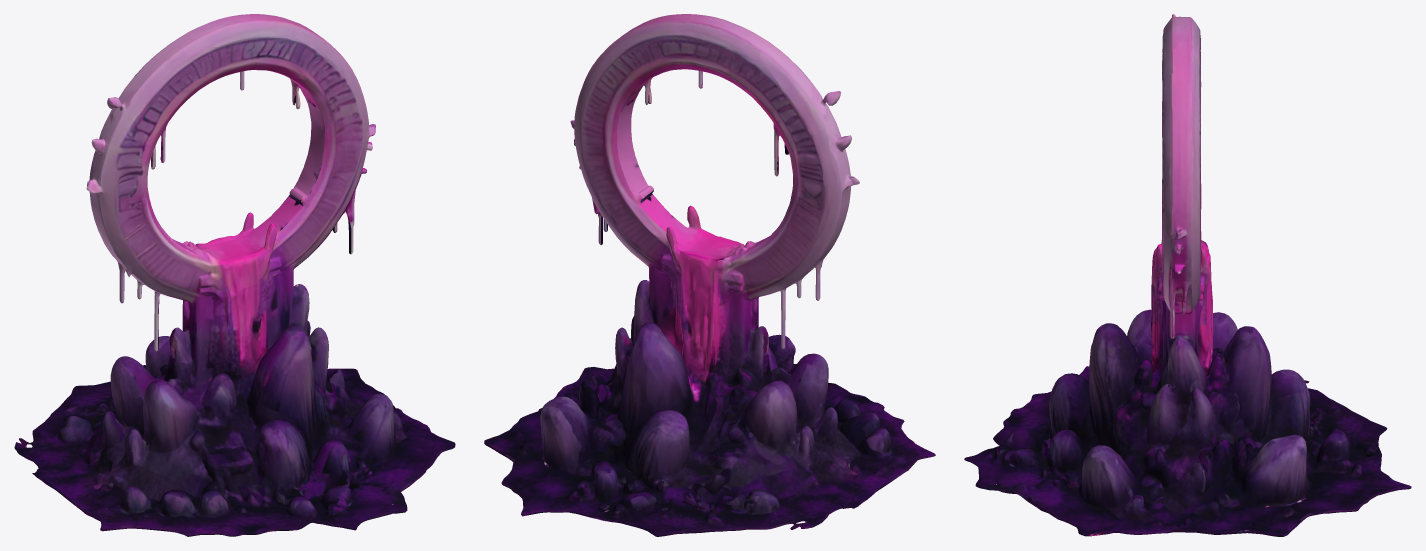
Rendered from crown-halo-generated-2026-05-17T17-51-57-002Z.high.glb.
3 renders of one model, left to right at view 1: azimuth 30°, elevation 25°; view 2: azimuth 150°, elevation 25°; view 3: azimuth 270°, elevation 25°, orthographic. The views are drawn at different scales.
Parts seen in each view (by area): view 1: temp_mesh.ply; view 2: temp_mesh.ply; view 3: temp_mesh.ply.
Boxes of the visible parts, x1,y1,x2,y2 form: temp_mesh.ply: (14,14,455,536); temp_mesh.ply: (484,14,935,536); temp_mesh.ply: (964,14,1411,536).
Bounding box in the file's own units: 1.69 × 1.96 × 1.88.
1 material, 1 textured.
